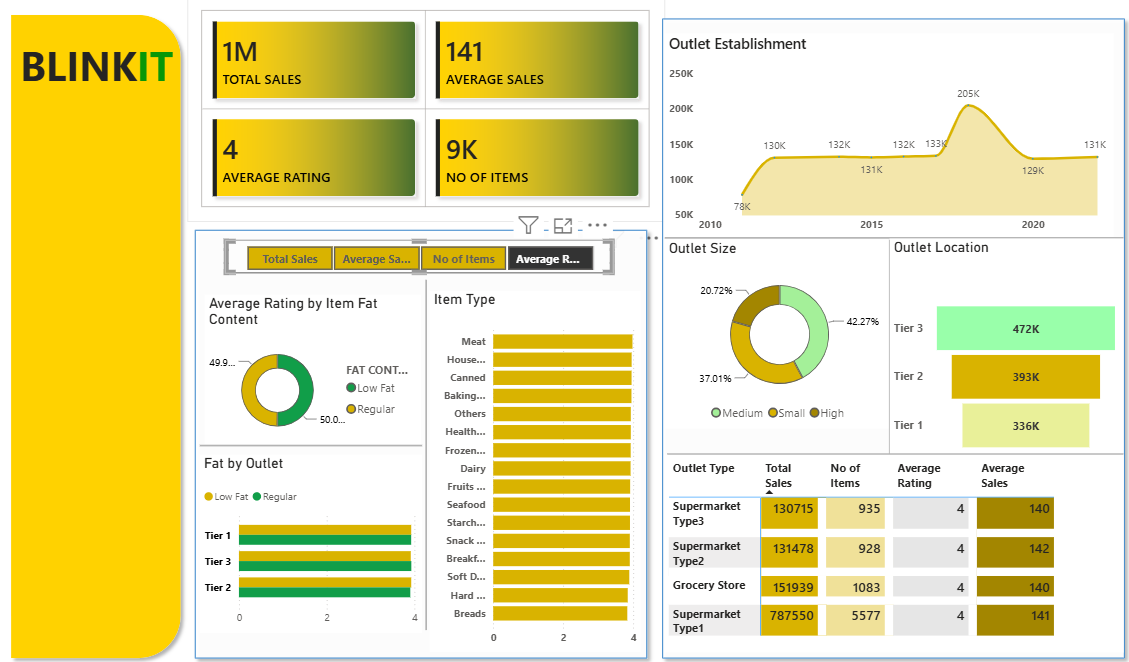

The page's visual inventory and layout, read from the dashboard file:
{"tool":"powerbi","page":{"name":"Page 1","canvas":[1400,800],"ordinal":0},"visuals":[{"type":"shape","box":[27,13.5,220.6,786.5],"z":0},{"type":"textbox","box":[42,45,625.9,87.1],"z":1000},{"type":"cardVisual","fields":{"Data":["BlinkIT Grocery Data.Total Sales","BlinkIT Grocery Data.Average Sales","BlinkIT Grocery Data.Average Rating","BlinkIT Grocery Data.No of Items"]},"box":[246.7,0,570,270],"z":2000},{"type":"shape","box":[246.3,270.2,558.3,530],"z":3000},{"type":"donutChart","fields":{"Y":["BlinkIT Grocery Data.Total Sales"],"Category":["BlinkIT Grocery Data.Item Fat Content"]},"box":[267.2,356.8,258.1,178.6],"z":4000},{"type":"slicer","fields":{"Values":["Metrics.Metrics"]},"box":[291.1,291.1,465,40],"z":5000},{"type":"clusteredBarChart","title":"Fat by Outlet","fields":{"Y":["BlinkIT Grocery Data.Total Sales"],"Series":["BlinkIT Grocery Data.Item Fat Content"],"Category":["BlinkIT Grocery Data.Outlet Location Type"]},"box":[261.3,547.9,265.7,213.1],"z":6000},{"type":"shape","box":[261.3,494.1,265.7,85.5],"z":7000},{"type":"shape","box":[355.7,339.2,352.7,418.7],"z":8000},{"type":"barChart","title":"Item Type","fields":{"Y":["BlinkIT Grocery Data.Total Sales"],"Category":["BlinkIT Grocery Data.Item Type"]},"box":[535.9,352.3,252.3,431.4],"z":9000},{"type":"shape","box":[804.7,17.9,570.3,782.3],"z":10000},{"type":"lineChart","title":"Outlet Establishment","fields":{"Category":["BlinkIT Grocery Data.Outlet Establishment Year"],"Y":["BlinkIT Grocery Data.Total Sales"]},"box":[816.6,44.8,535.9,246.3],"z":11000},{"type":"shape","box":[816.6,246.3,547.9,85.1],"z":12000},{"type":"donutChart","title":"Outlet Size","fields":{"Y":["BlinkIT Grocery Data.Total Sales"],"Category":["BlinkIT Grocery Data.Outlet Size"]},"box":[816.6,291.1,274.7,225.4],"z":13000},{"type":"shape","box":[909.2,291.1,352.3,256.8],"z":14000},{"type":"funnel","title":"Outlet Location","fields":{"Category":["BlinkIT Grocery Data.Outlet Location Type"],"Y":["BlinkIT Grocery Data.Total Sales"]},"box":[1085.3,289.6,279.2,300.1],"z":15000},{"type":"shape","box":[819.6,504.6,544.9,85.1],"z":16000},{"type":"pivotTable","fields":{"Rows":["BlinkIT Grocery Data.Outlet Type"],"Values":["BlinkIT Grocery Data.Total Sales","BlinkIT Grocery Data.No of Items","BlinkIT Grocery Data.Average Rating","BlinkIT Grocery Data.Average Sales","Sum(BlinkIT Grocery Data.Item Visibility)"]},"box":[816.6,547.9,547.9,235.9],"z":17000}]}

Visuals, with their boxes in screenshot pixels (x1, y1, x2, y2), scaled from the page's 1400x800 canvas onto the 1129x662 screenshot:
shape: rect(22, 11, 200, 661)
textbox: rect(34, 37, 539, 109)
cardVisual - BlinkIT Grocery Data.Total Sales x BlinkIT Grocery Data.Average Sales: rect(199, 0, 659, 223)
shape: rect(199, 224, 649, 661)
donutChart - BlinkIT Grocery Data.Total Sales x BlinkIT Grocery Data.Item Fat Content: rect(215, 295, 424, 443)
slicer - Metrics.Metrics: rect(235, 241, 610, 274)
"Fat by Outlet" clusteredBarChart: rect(211, 453, 425, 630)
shape: rect(211, 409, 425, 480)
shape: rect(287, 281, 571, 627)
"Item Type" barChart: rect(432, 292, 636, 649)
shape: rect(649, 15, 1109, 661)
"Outlet Establishment" lineChart: rect(659, 37, 1091, 241)
shape: rect(659, 204, 1100, 274)
"Outlet Size" donutChart: rect(659, 241, 880, 427)
shape: rect(733, 241, 1017, 453)
"Outlet Location" funnel: rect(875, 240, 1100, 488)
shape: rect(661, 418, 1100, 488)
pivotTable - BlinkIT Grocery Data.Outlet Type x BlinkIT Grocery Data.Total Sales: rect(659, 453, 1100, 649)
